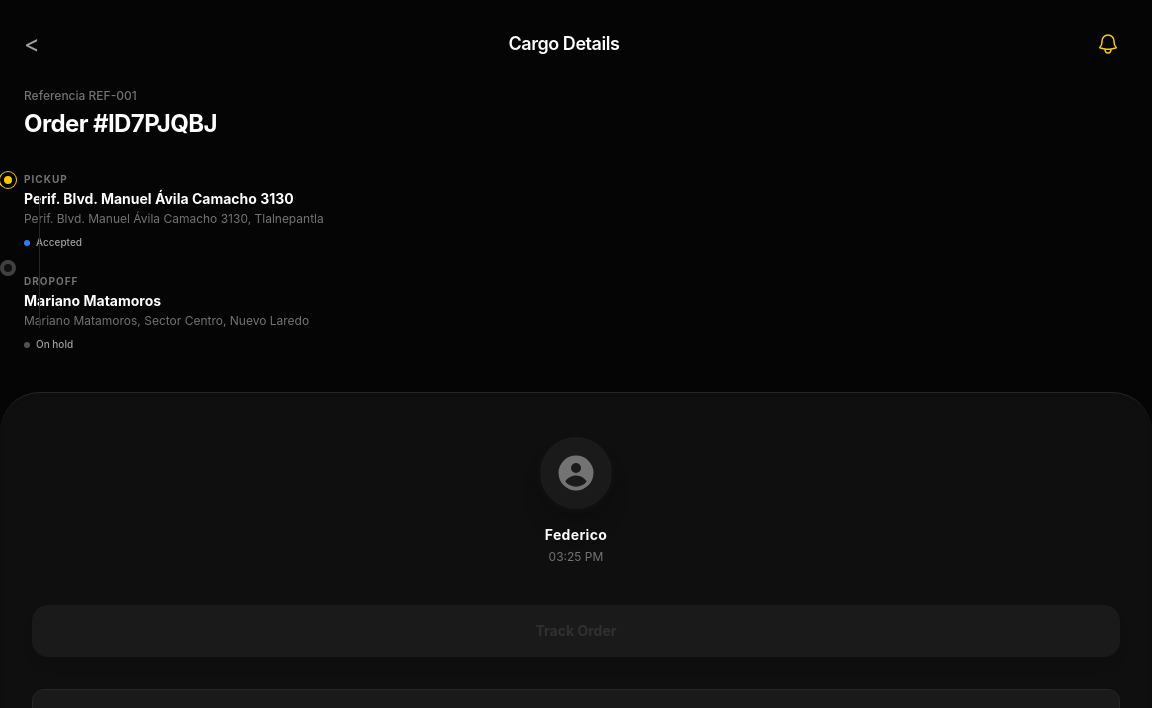
Test: Componente OrderDetailPanel › Debe alternar los datos dinámicos al cambiar de pestaña (Pickup/Dropoff)
What coordinates should you click on to do the following:
click the text "Dropoff"
I would click on:
 (51, 281)
Its box is [24,275,78,287].
(page scrolled)
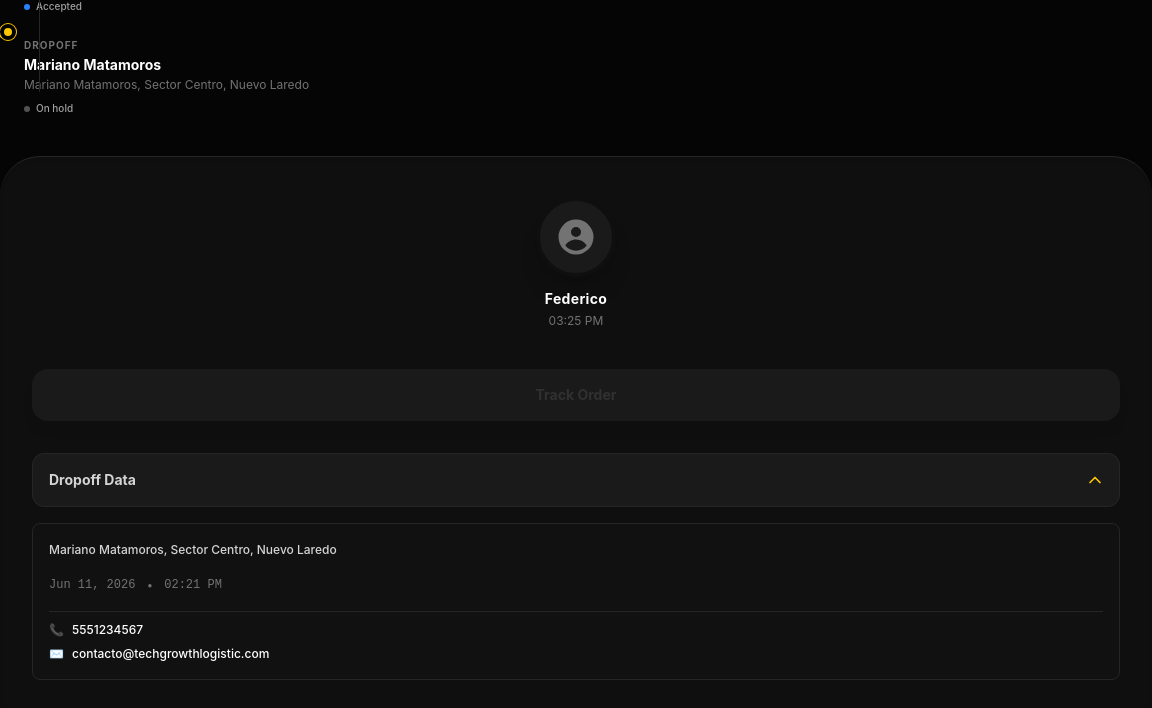
Expected: the text "Dropoff Data" is shown, [49,470,136,490]
